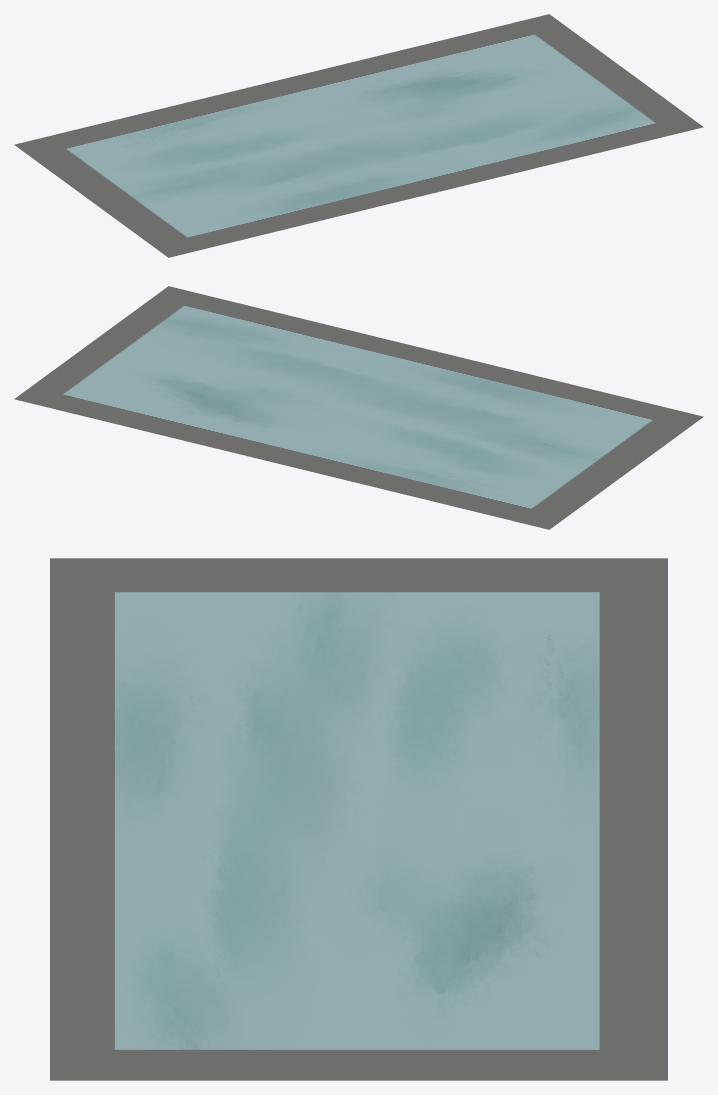
Rendered from N06_Piso_Piscina.fbx.
The picture shows the model from 3 angles, top to bottom: view 1: azimuth 30°, elevation 25°; view 2: azimuth 150°, elevation 25°; view 3: azimuth 270°, elevation 25°; orthographic projection. The views are drawn at different scales.
Visible parts, largest first — view 1: N06_Piso_Piscina; view 2: N06_Piso_Piscina; view 3: N06_Piso_Piscina.
Part boxes in pixels (x1,y1,x2,y2): N06_Piso_Piscina: (14,14,703,257); N06_Piso_Piscina: (14,286,703,529); N06_Piso_Piscina: (50,558,667,1080).
Bounding box in the file's own units: 400 × 3.26e-05 × 200.
1 material, 1 textured.
